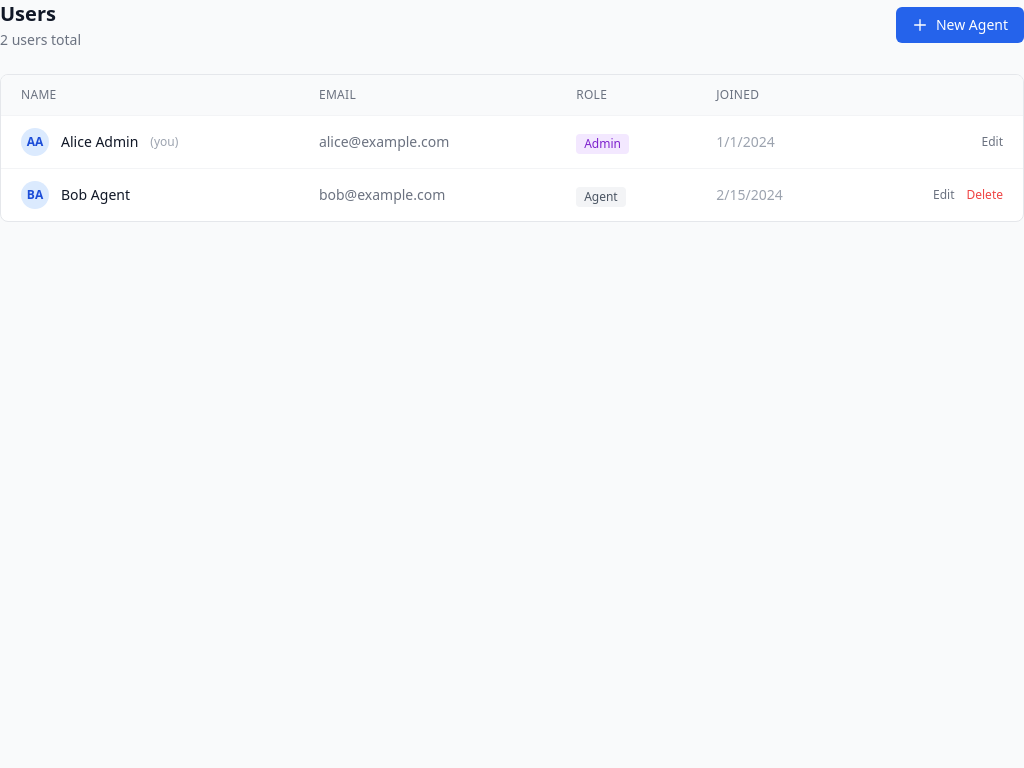
UsersPage › edit user modal › opens the edit modal with the user's current data
The image size is (1024, 768).
Check: the text "Bob Agent" is shown, box [61,185,130,205]
Click the button "Edit" in the row of "BA".
click(944, 195)  # box [933,187,954,203]
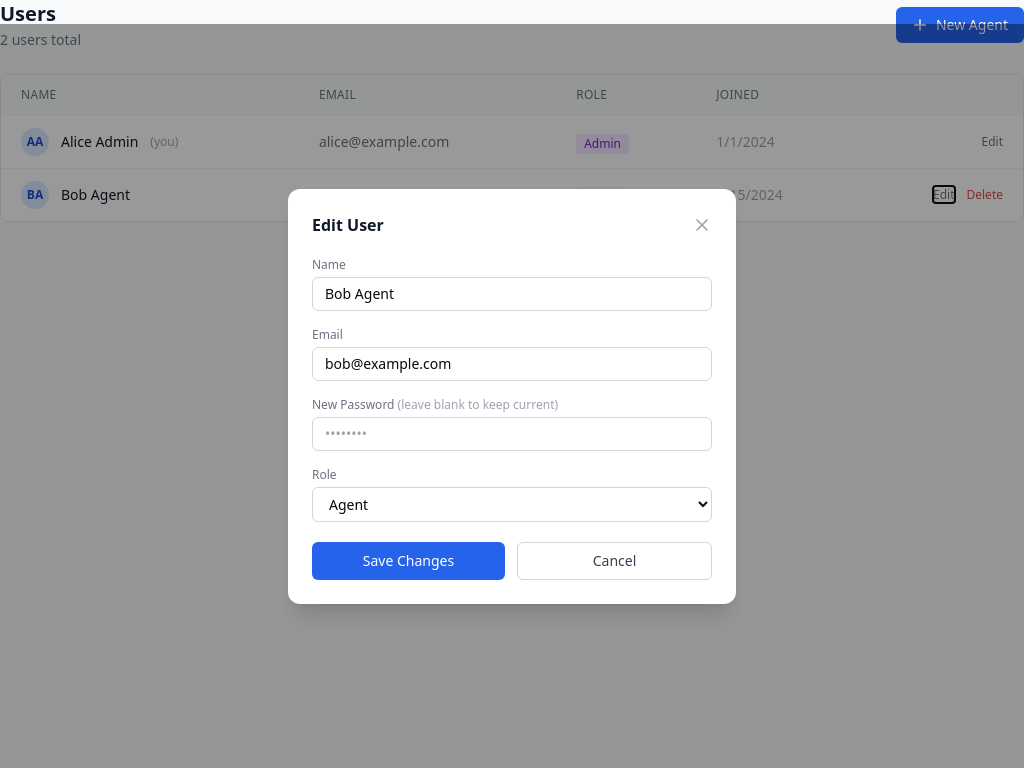
Check: the heading "Edit User" is shown, box [312,212,384,236]
Check: the 1st field showing "Bob Agent" is shown, box [312,276,712,310]
Check: the 2nd field showing "bob@example.com" is shown, box [312,346,712,380]
